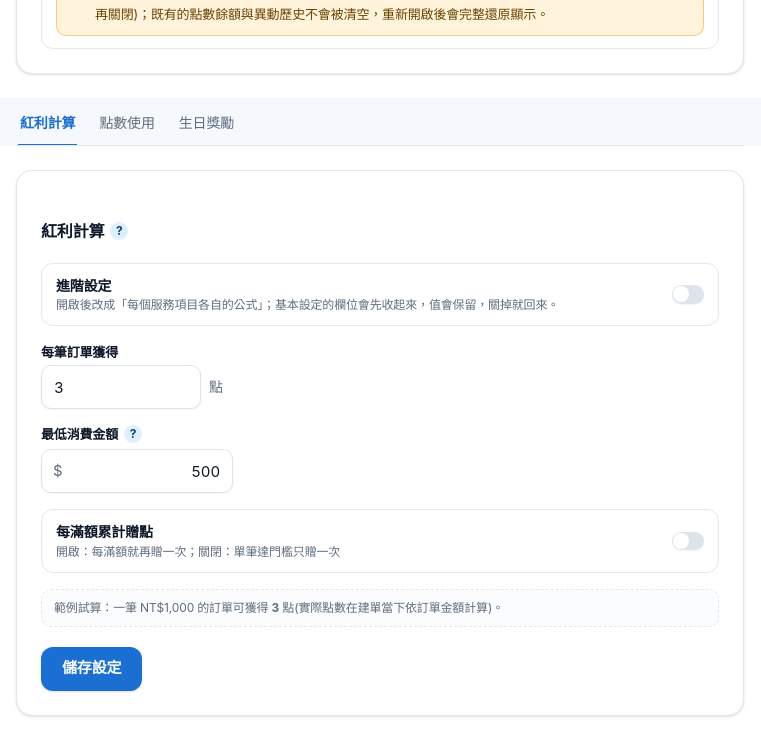
§4.2 紅利計算 › 進階開 ⇒ 基本三欄隱藏(不是灰掉);關回來基本設定的值還在
(page scrolled)
Replace the text in the field labelled "每筆訂單獲得" with "7". click: (121, 387)
box: [41,365,201,409]
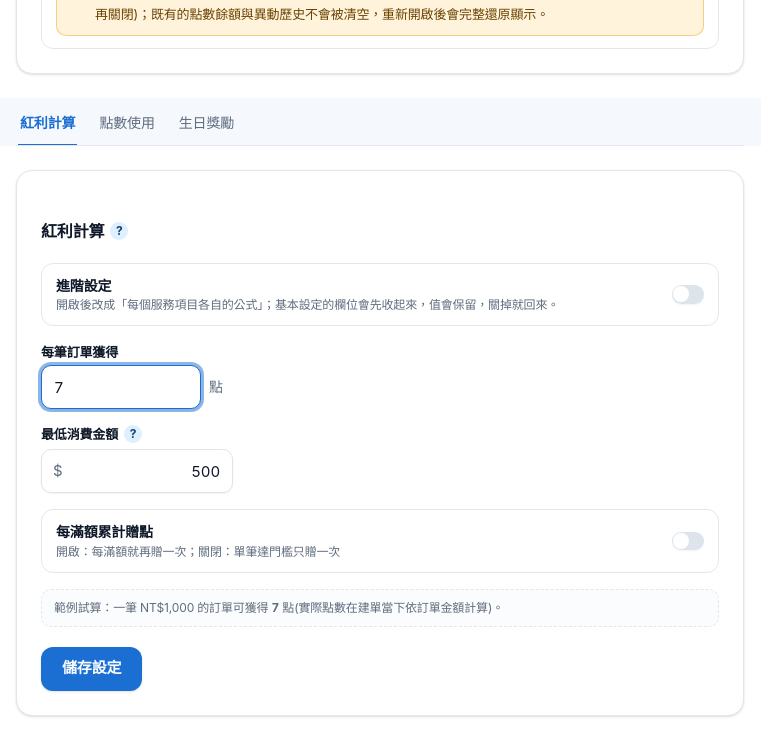
Click the switch named "進階設定" in the row of "進階設定". click: (688, 294)
box: [672,285,704,304]
(page scrolled)
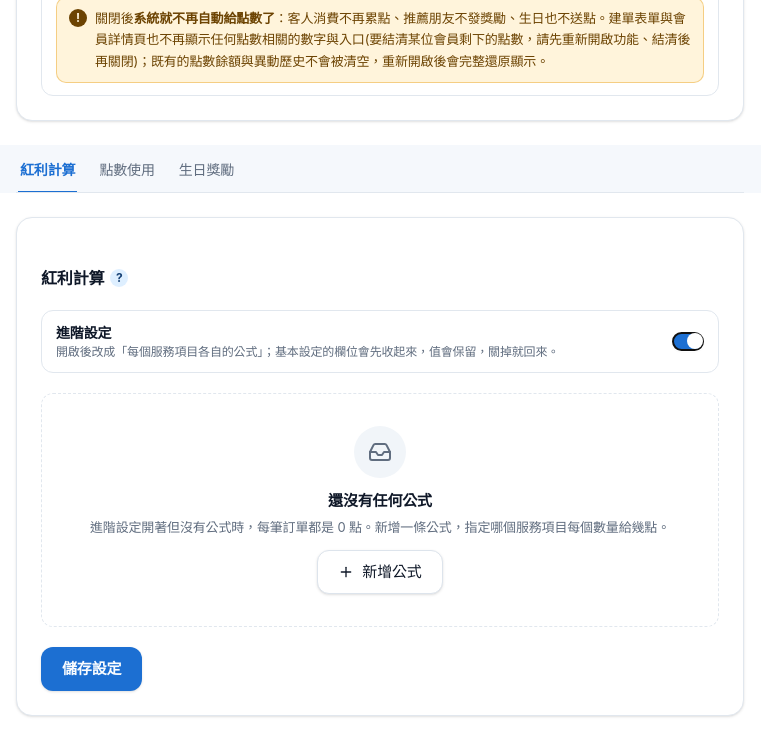
Check: the label labelled "每筆訂單獲得" is gone
Check: the text "還沒有任何公式" is shown, box [328,491,432,510]
Click the switch named "進階設定". click: (688, 342)
box: [672,332,704,351]
(page scrolled)
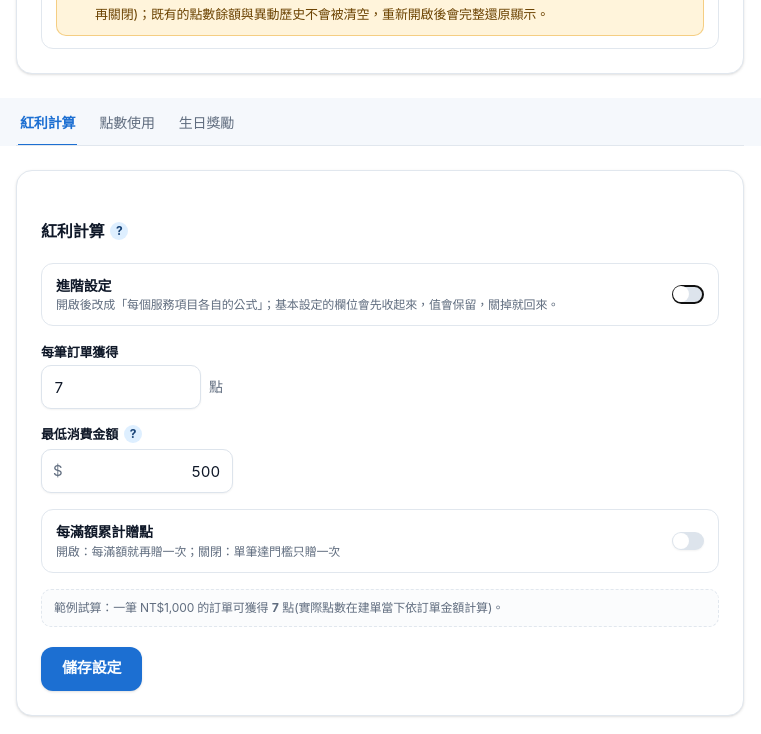
Check: the field labelled "每筆訂單獲得" holds "7", box [41,365,201,409]
